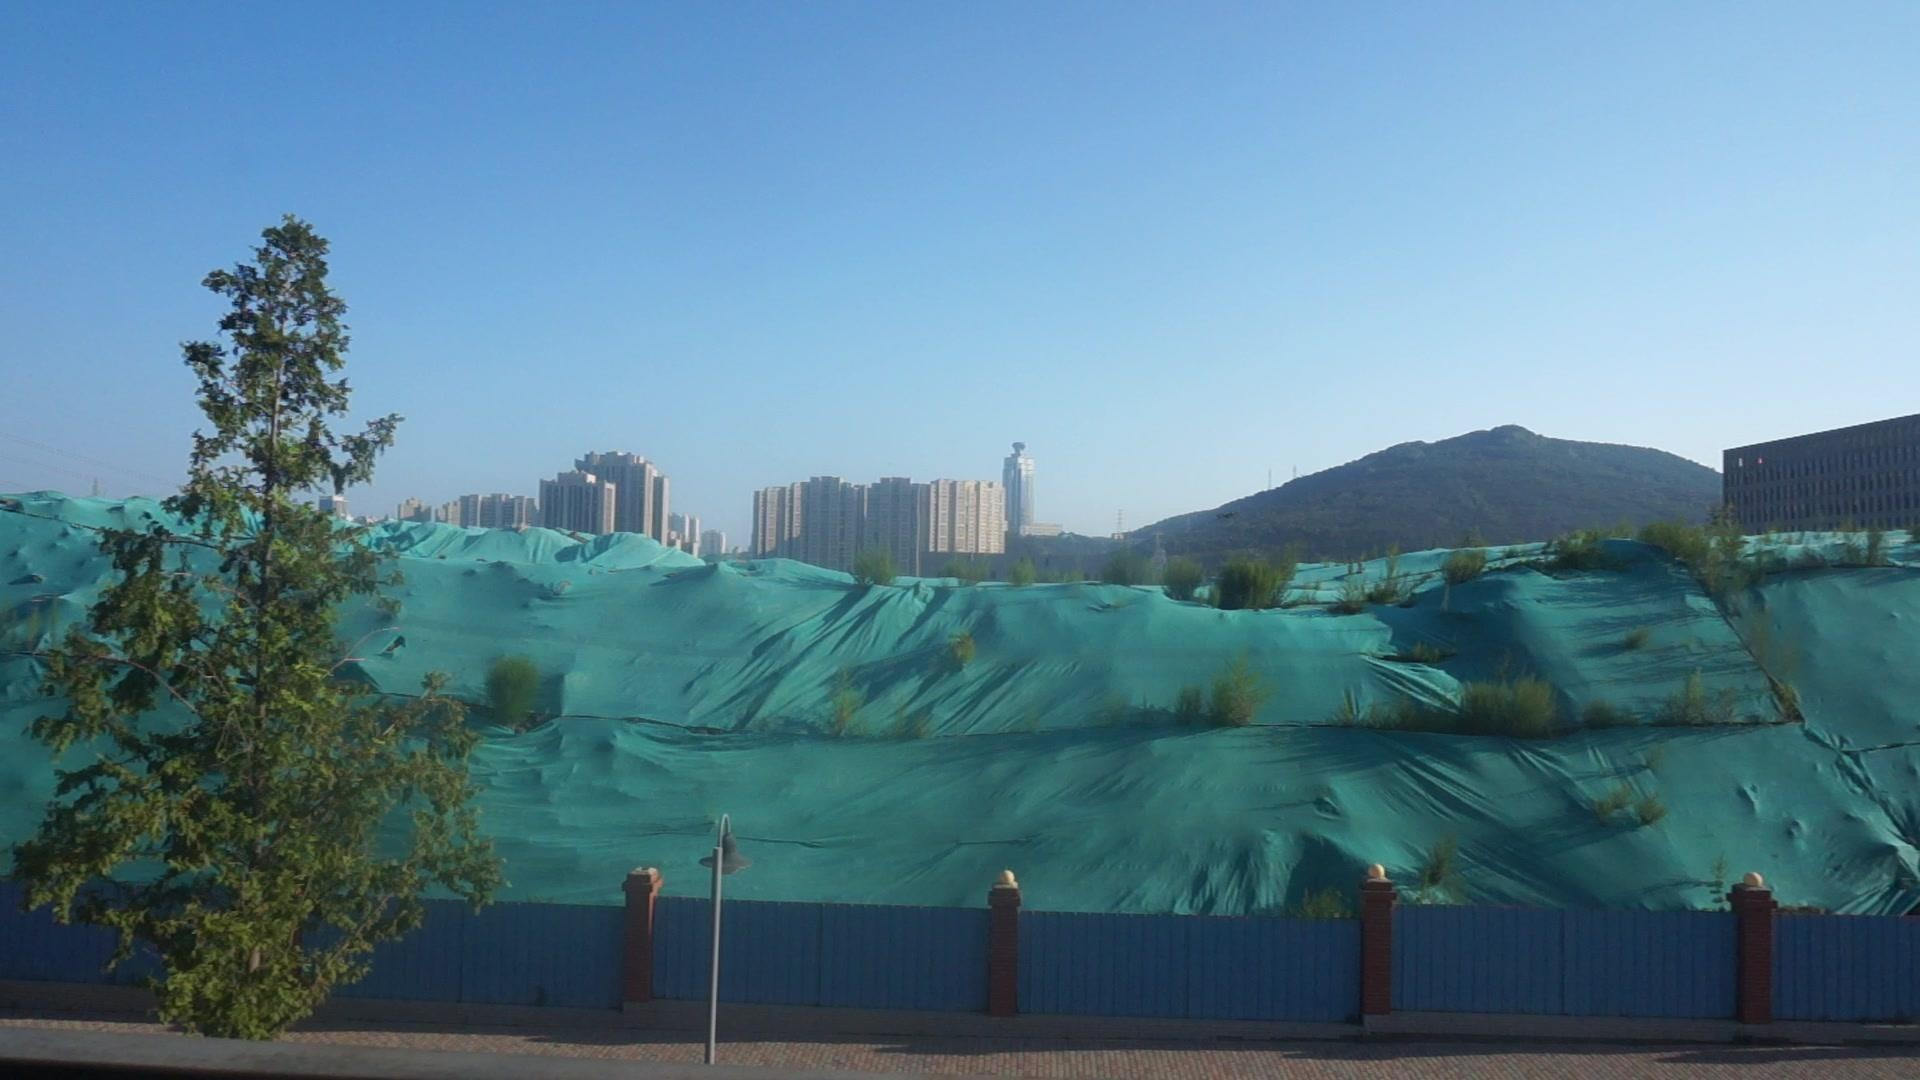UAV: (1217, 512, 1240, 521)
